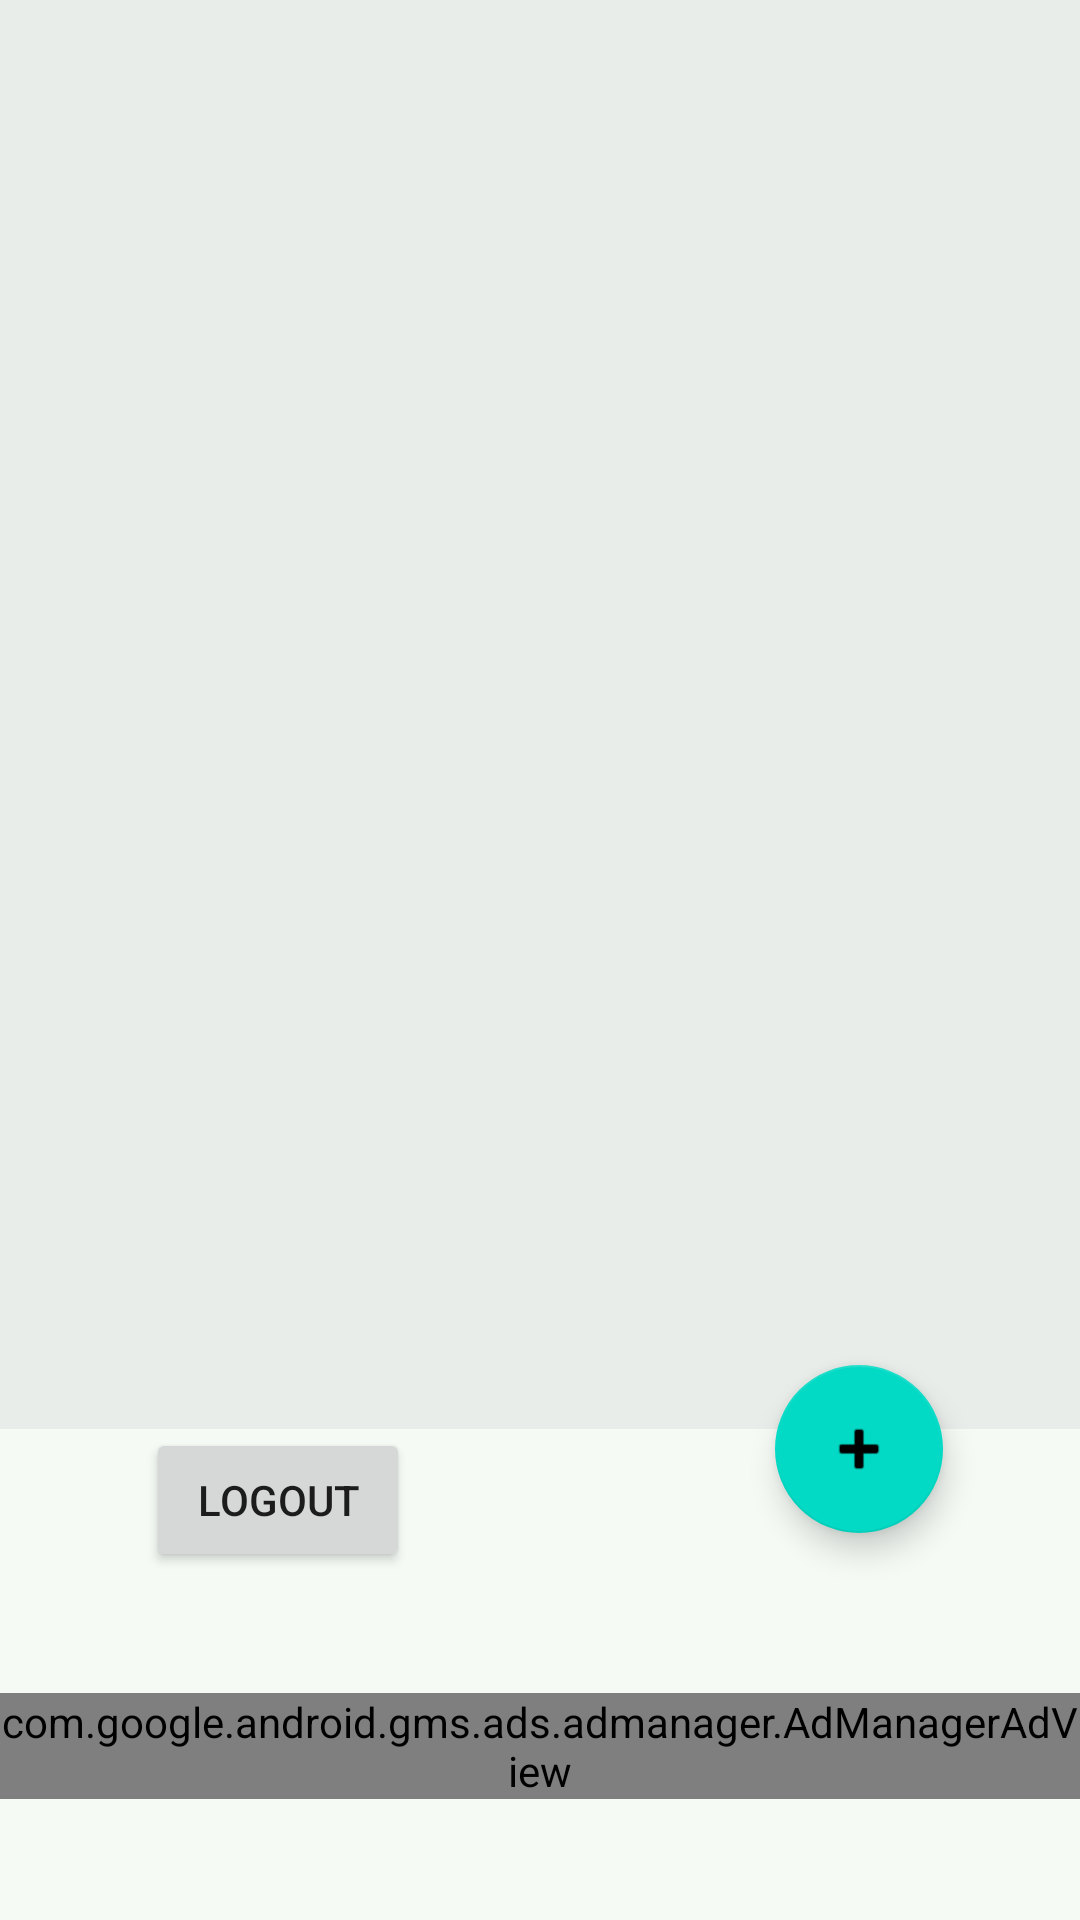

Icon click points for this 1080×1920 phone screenshot, format [x,y]:
add: [859,1449]
